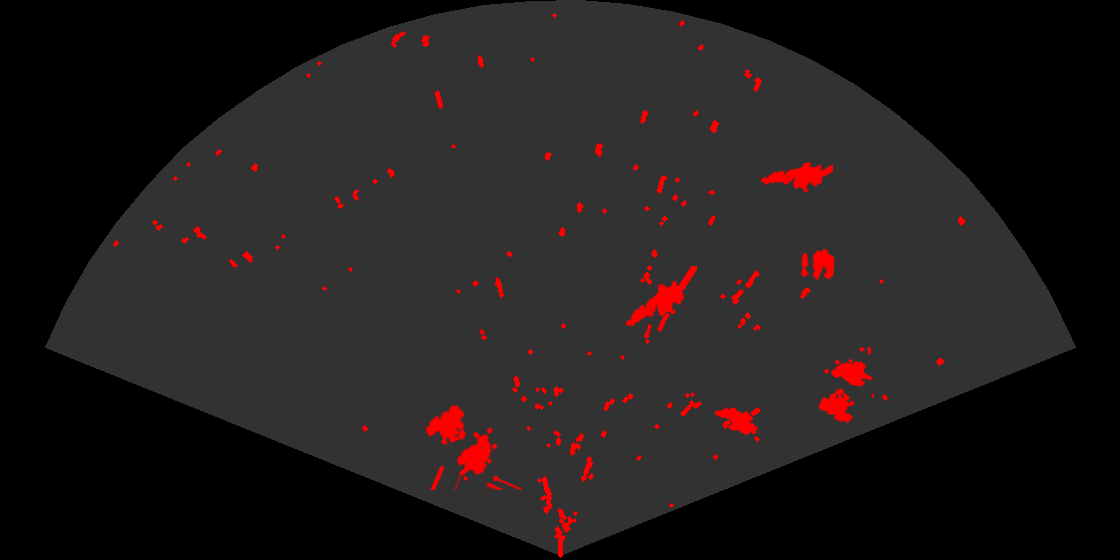AUV: (713, 406, 760, 437)
ball: (799, 247, 836, 282)
cage: (424, 403, 521, 490), (817, 347, 874, 425)
frogman: (624, 266, 697, 328), (759, 160, 833, 194)
